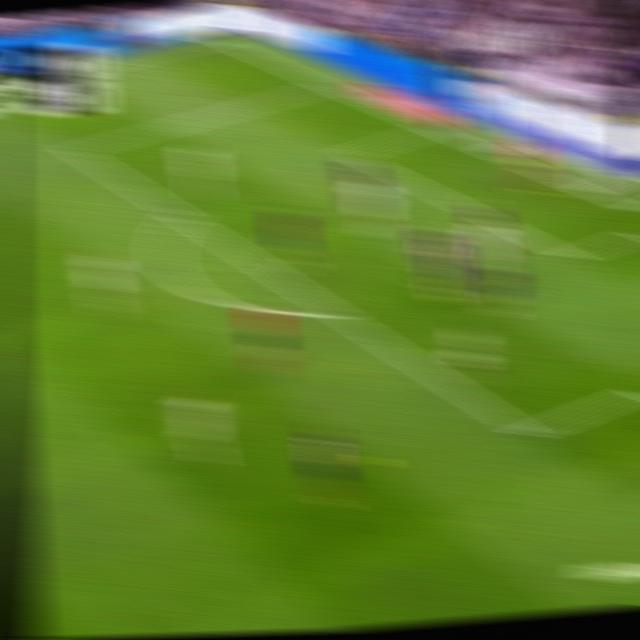bigarea_bottom_inner: (512, 413, 546, 452)
bigarea_top_inner: (61, 136, 92, 163)
bigarea_top_outter: (310, 74, 340, 94)
bottom_arc_area_intersection: (321, 299, 353, 327)
corner: (203, 31, 234, 48)
smallarea_top_inner: (338, 147, 363, 162)
top_arc_area_intersection: (167, 203, 198, 228)
